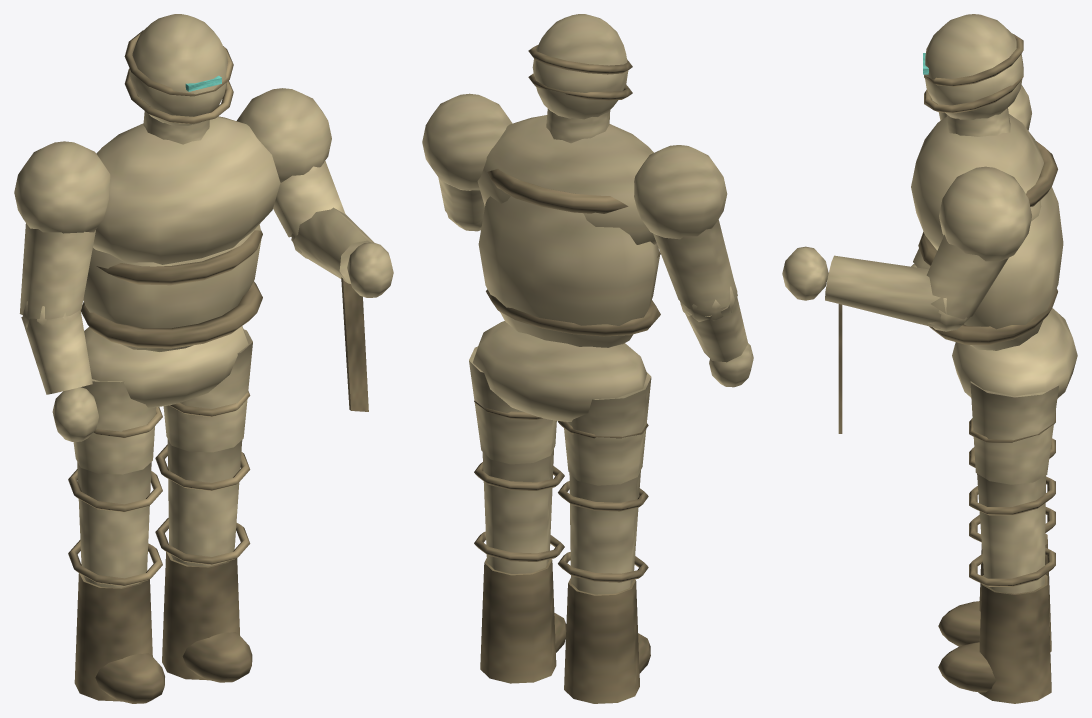
The model's file is mummy.obj.
3 renders of one model, left to right at view 1: azimuth 30°, elevation 25°; view 2: azimuth 150°, elevation 25°; view 3: azimuth 270°, elevation 25°, orthographic. The views are drawn at different scales.
Bounding box in the file's own units: 2.98 × 6.18 × 2.54.
1 material, 1 textured.
